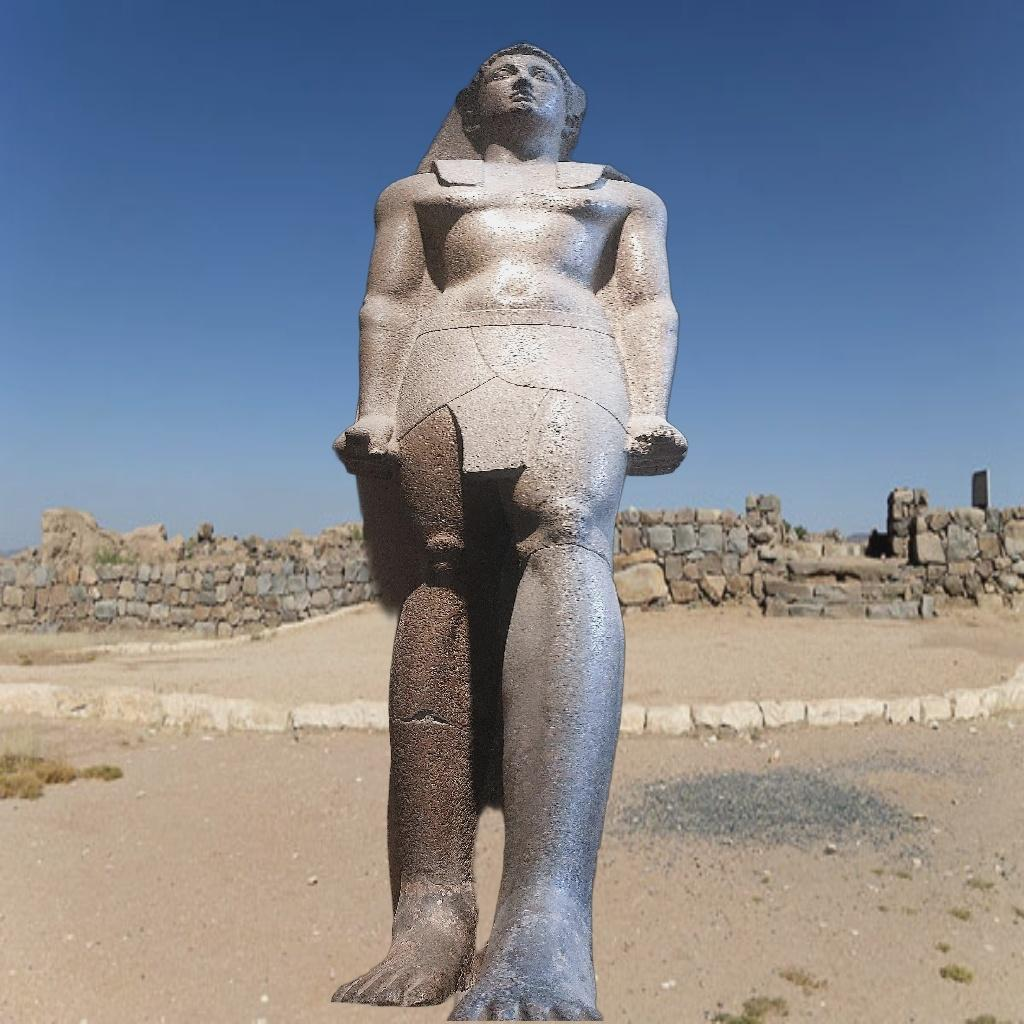Augustus: (326, 40, 690, 1021)
